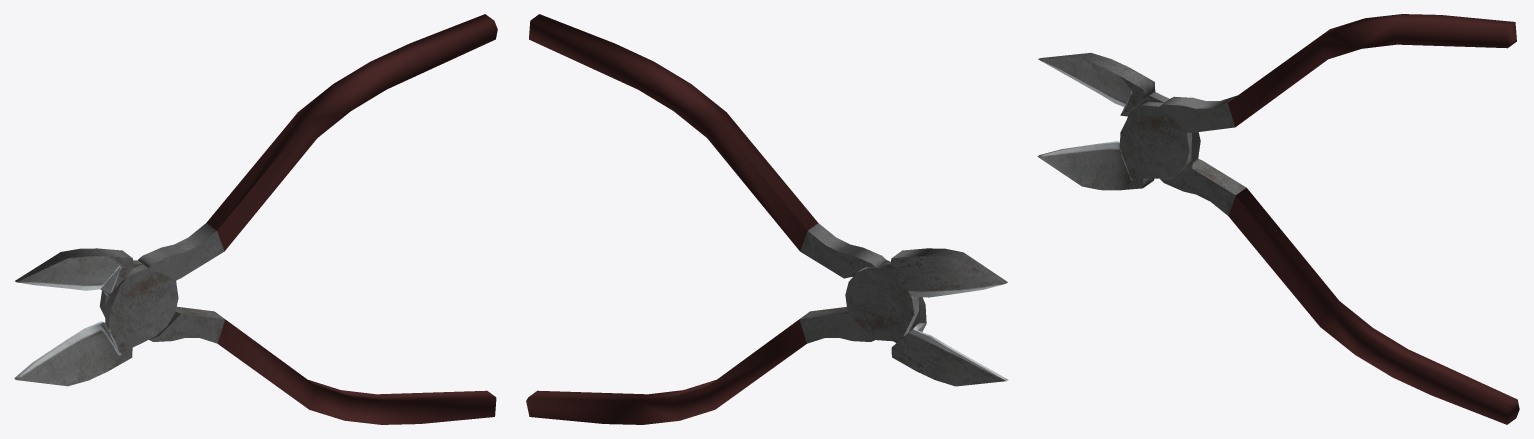
File: Nipper.fbx
The picture shows the model from 3 angles, left to right: view 1: azimuth 30°, elevation 25°; view 2: azimuth 150°, elevation 25°; view 3: azimuth 330°, elevation 25°; orthographic projection.
Visible parts, largest first — view 1: Nipper_R, Nipper_L; view 2: Nipper_L, Nipper_R; view 3: Nipper_R, Nipper_L.
Part boxes in pixels (x1,y1,x2,y2): Nipper_R: (14, 14, 497, 386); Nipper_L: (15, 248, 496, 424); Nipper_L: (526, 248, 1007, 424); Nipper_R: (529, 14, 1008, 386); Nipper_R: (1037, 14, 1516, 190); Nipper_L: (1038, 53, 1519, 424).
Size of the model in its own units: 24.54 by 19.32 by 0.9561.
